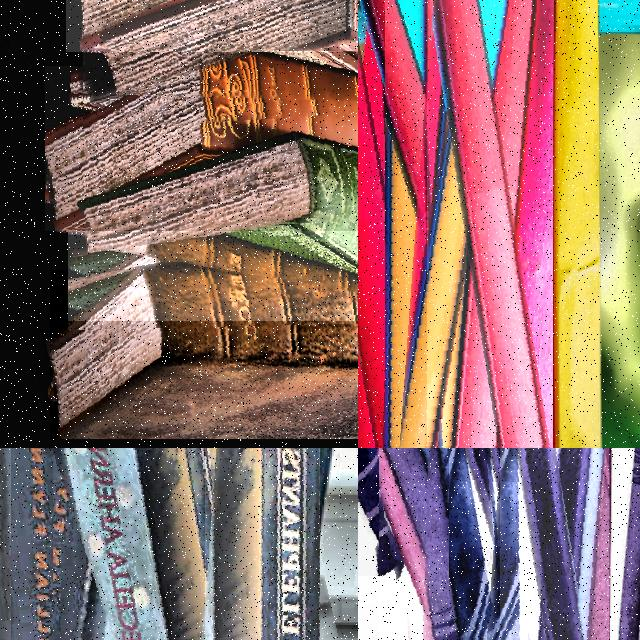Books: (50, 270, 358, 438), (46, 66, 358, 230), (431, 0, 545, 448), (69, 132, 358, 275), (358, 0, 431, 448), (493, 0, 554, 448), (88, 448, 208, 640), (387, 0, 438, 448), (553, 0, 601, 448), (209, 448, 316, 640), (388, 448, 491, 640), (12, 448, 84, 640), (512, 448, 582, 640), (450, 448, 503, 640), (358, 448, 424, 575), (575, 448, 612, 640), (619, 448, 640, 640), (411, 448, 428, 640), (563, 448, 576, 640)
